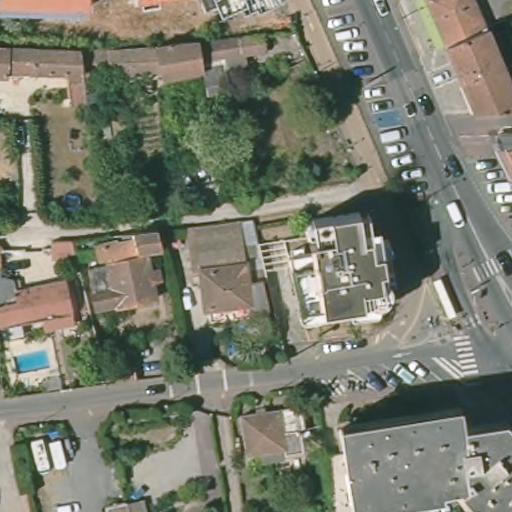pool: (6, 344, 56, 377)
